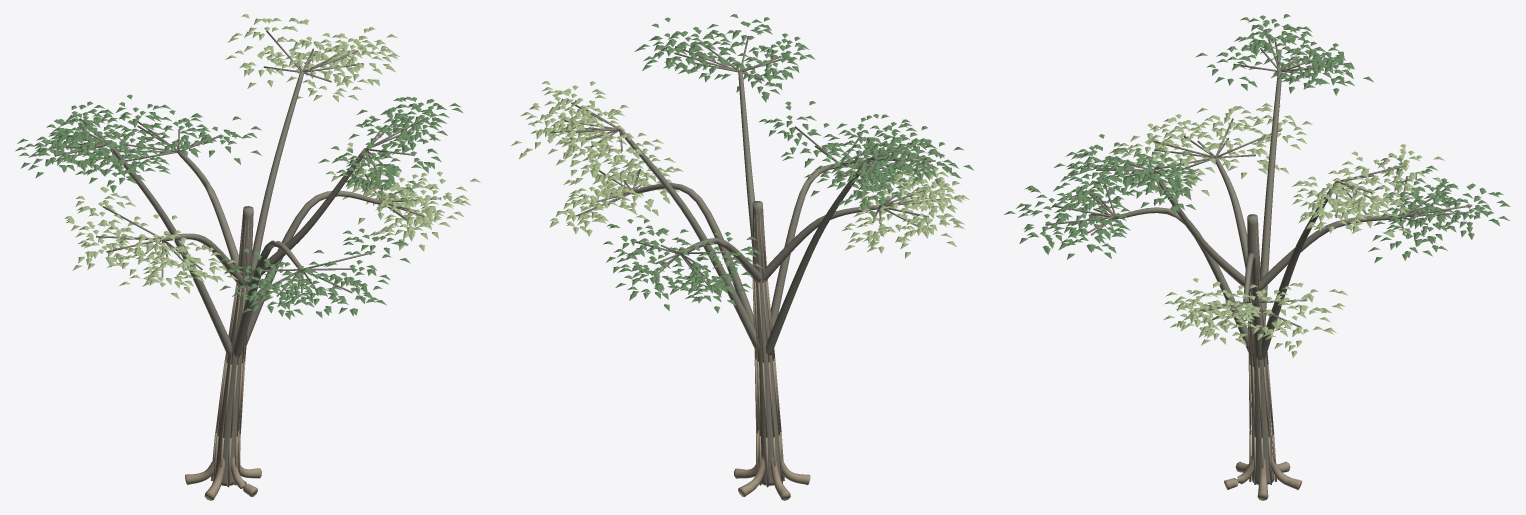
Rendered from grove-grove-tree-4.glb.
The picture shows the model from 3 angles, left to right: view 1: azimuth 30°, elevation 25°; view 2: azimuth 150°, elevation 25°; view 3: azimuth 270°, elevation 25°; orthographic projection.
Parts seen in each view (by area): view 1: grove-grove-tree-4; view 2: grove-grove-tree-4; view 3: grove-grove-tree-4.
Part boxes in pixels (box(x1,y1,x2,y2)): grove-grove-tree-4: box(15, 14, 480, 500); grove-grove-tree-4: box(511, 14, 973, 500); grove-grove-tree-4: box(1004, 14, 1510, 500).
Size of the model in its own units: 9.66 by 8.31 by 9.78.
